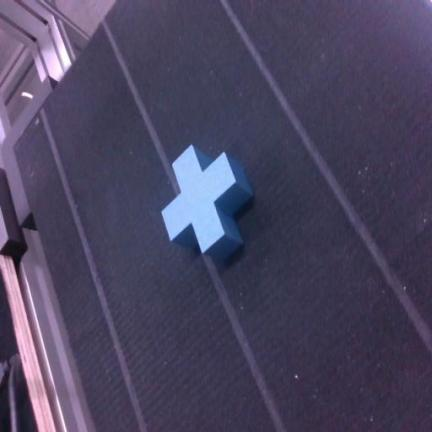cross: (162, 146, 253, 259)
